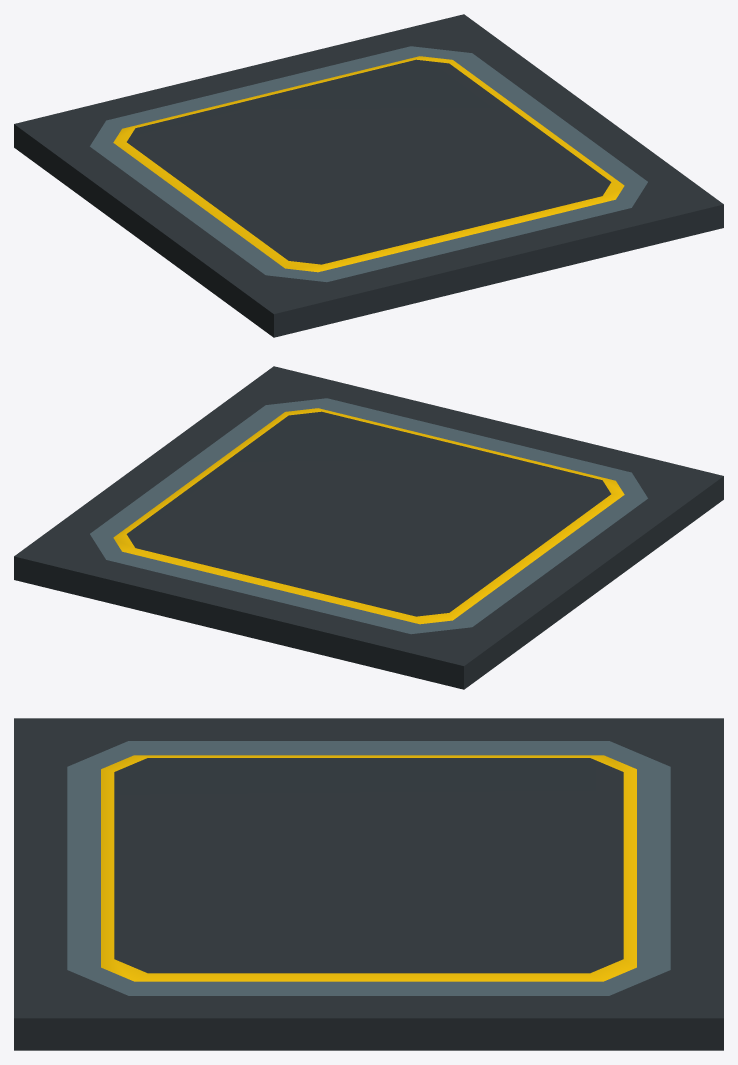
Rendered from Platform_010.glb.
3 views of the same model, one above another, from view 1: azimuth 30°, elevation 25°; view 2: azimuth 150°, elevation 25°; view 3: azimuth 270°, elevation 25° (orthographic). The views are drawn at different scales.
Parts seen in each view (by area): view 1: Platform_010; view 2: Platform_010; view 3: Platform_010.
Boxes of the visible parts, <box> form: Platform_010: <box>14,14,723,337</box>; Platform_010: <box>14,366,723,689</box>; Platform_010: <box>14,718,723,1050</box>.
Size of the model in its own units: 4 by 0.2345 by 4.
Materials: 1 (1 with a texture image).
